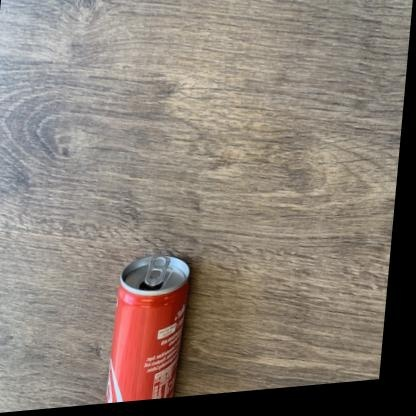trash: (107, 256, 189, 401)
